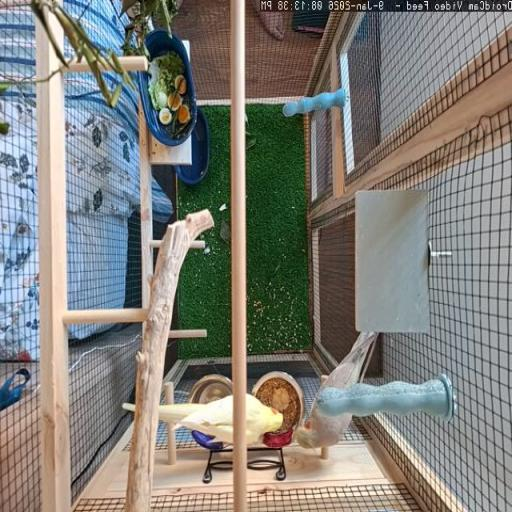bebedero: (188, 374, 233, 403)
comedero: (253, 372, 305, 432)
ninfa: (159, 396, 233, 442), (320, 333, 376, 390), (296, 393, 350, 448), (245, 394, 283, 442)
